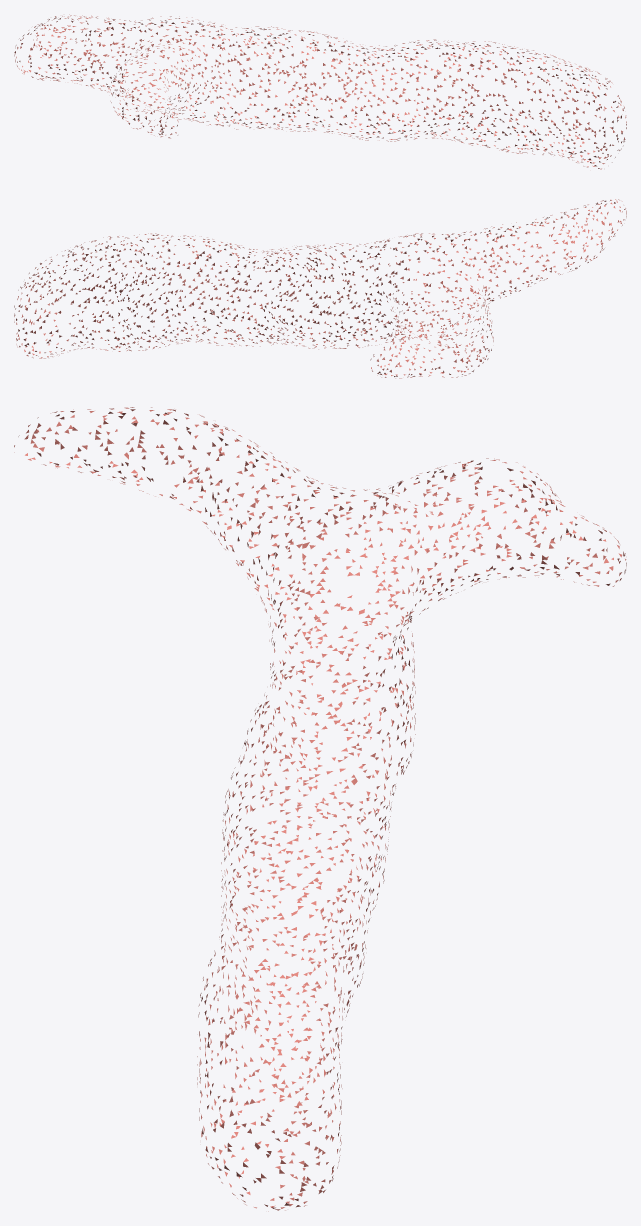
The model's file is morph_001.glb.
The picture shows the model from 3 angles, top to bottom: view 1: azimuth 30°, elevation 25°; view 2: azimuth 150°, elevation 25°; view 3: azimuth 270°, elevation 25°; orthographic projection. The views are drawn at different scales.
Size of the model in its own units: 128 by 53.46 by 75.13.
